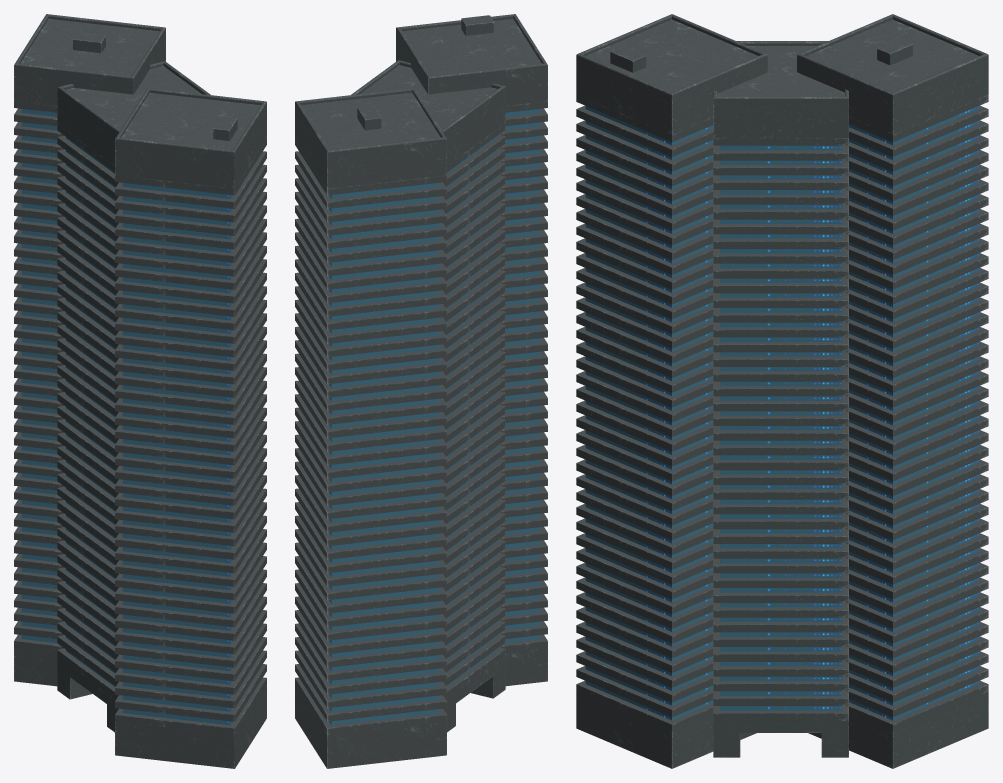
Rendered from sci-fi_building_11.glb.
The picture shows the model from 3 angles, left to right: view 1: azimuth 30°, elevation 25°; view 2: azimuth 150°, elevation 25°; view 3: azimuth 270°, elevation 25°; orthographic projection. The views are drawn at different scales.
Parts seen in each view (by area): view 1: Sci_fi_building; view 2: Sci_fi_building; view 3: Sci_fi_building.
Part boxes in pixels (x1,y1,x2,y2): Sci_fi_building: [14, 14, 266, 768]; Sci_fi_building: [295, 14, 547, 768]; Sci_fi_building: [576, 14, 988, 768].
Bounding box in the file's own units: 70.71 × 278 × 152.
1 material, 1 textured.
